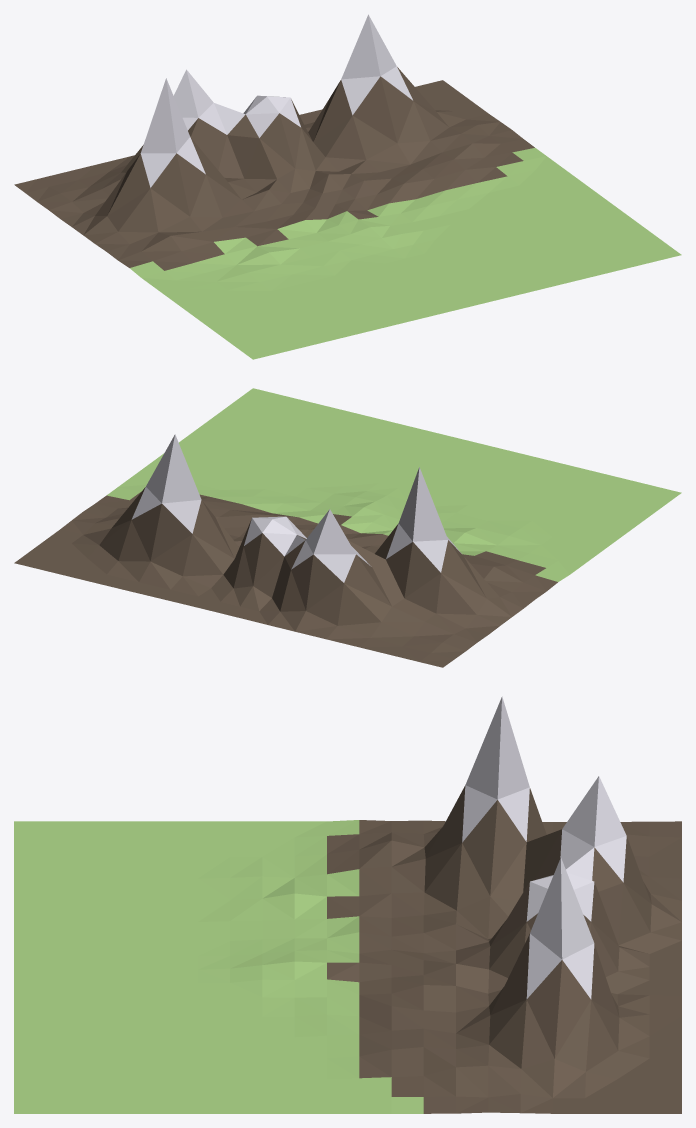
File: mountain2.dae
The picture shows the model from 3 angles, top to bottom: view 1: azimuth 30°, elevation 25°; view 2: azimuth 150°, elevation 25°; view 3: azimuth 270°, elevation 25°; orthographic projection. The views are drawn at different scales.
Parts seen in each view (by area): view 1: Sahne; view 2: Sahne; view 3: Sahne.
Boxes of the visible parts, x1=… form: Sahne: x1=14, y1=14, x2=681, y2=359; Sahne: x1=14, y1=388, x2=681, y2=667; Sahne: x1=14, y1=696, x2=681, y2=1113.
Bounding box in the file's own units: 37.52 × 36.22 × 11.12.
